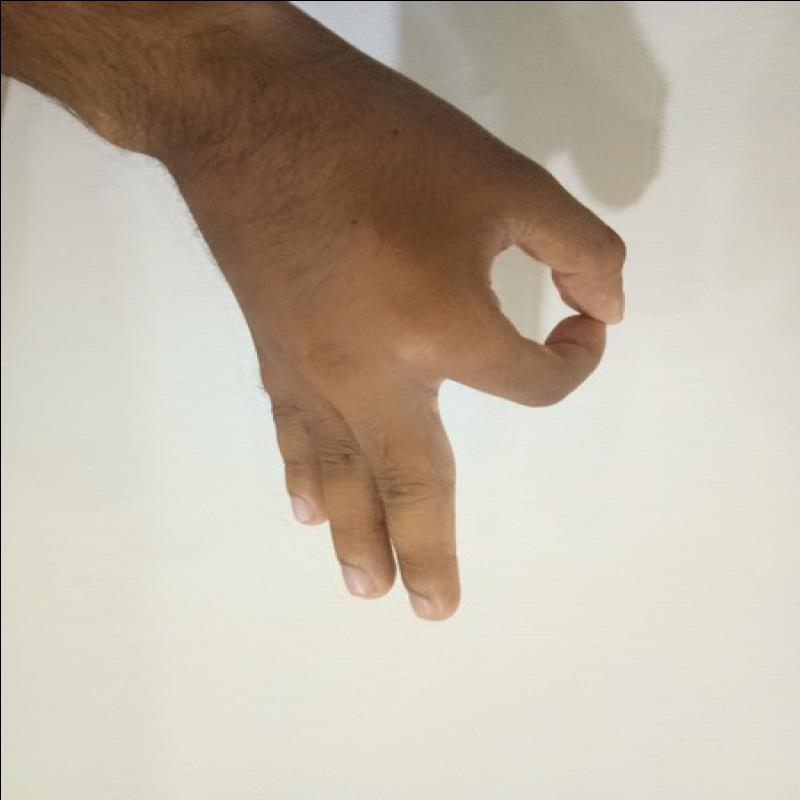Mudraakhyam: (141, 89, 644, 632)
